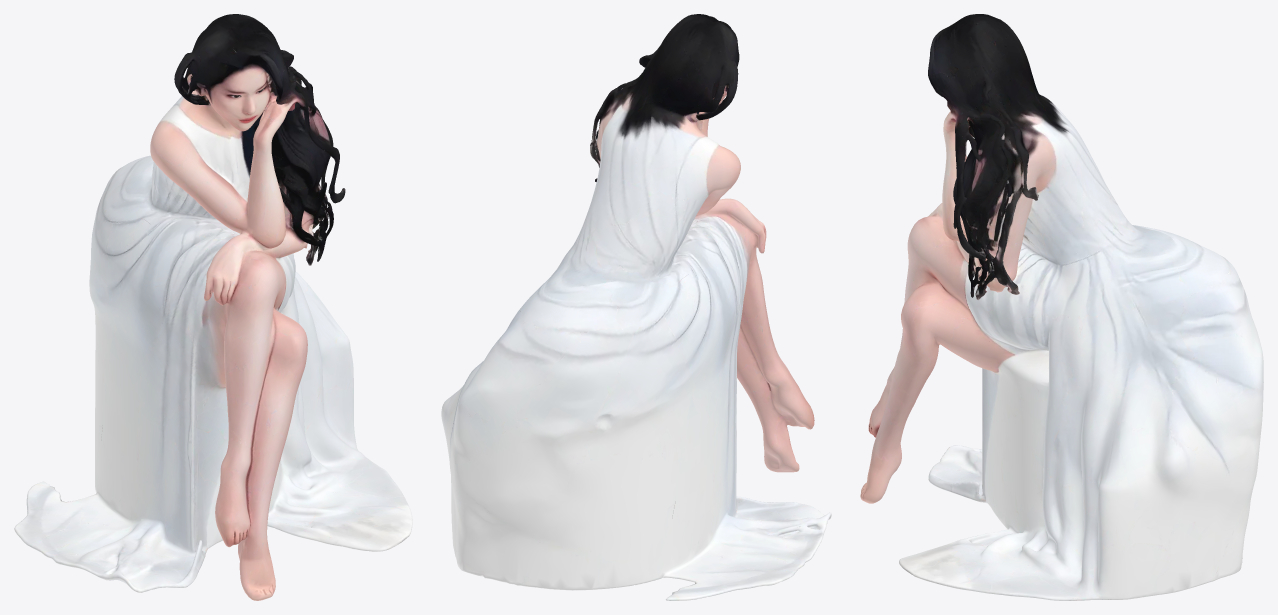
The model's file is Meshy_AI__0519184741_texture_1781267267925.glb.
3 views of the same model, side by side, from view 1: azimuth 30°, elevation 25°; view 2: azimuth 150°, elevation 25°; view 3: azimuth 270°, elevation 25° (orthographic). The views are drawn at different scales.
Bounding box in the file's own units: 1.35 × 2 × 1.46.
1 material, 1 textured.
